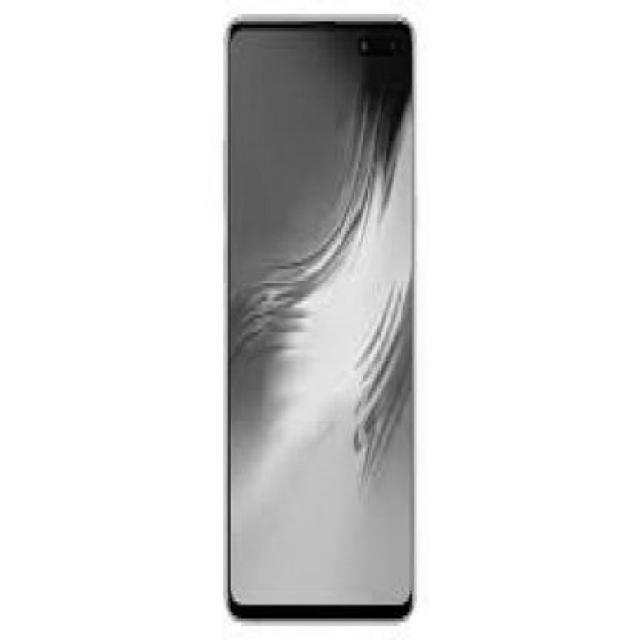fake: (223, 22, 414, 618)
